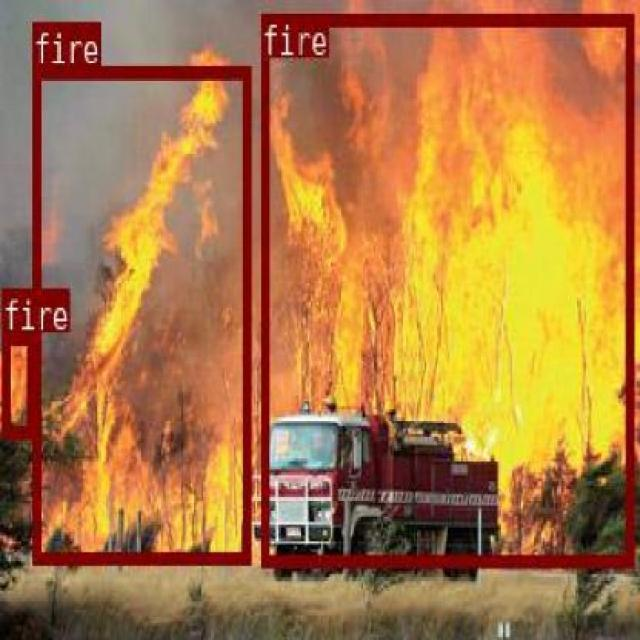Fire: (258, 12, 632, 566), (32, 64, 250, 560), (1, 330, 34, 436)
